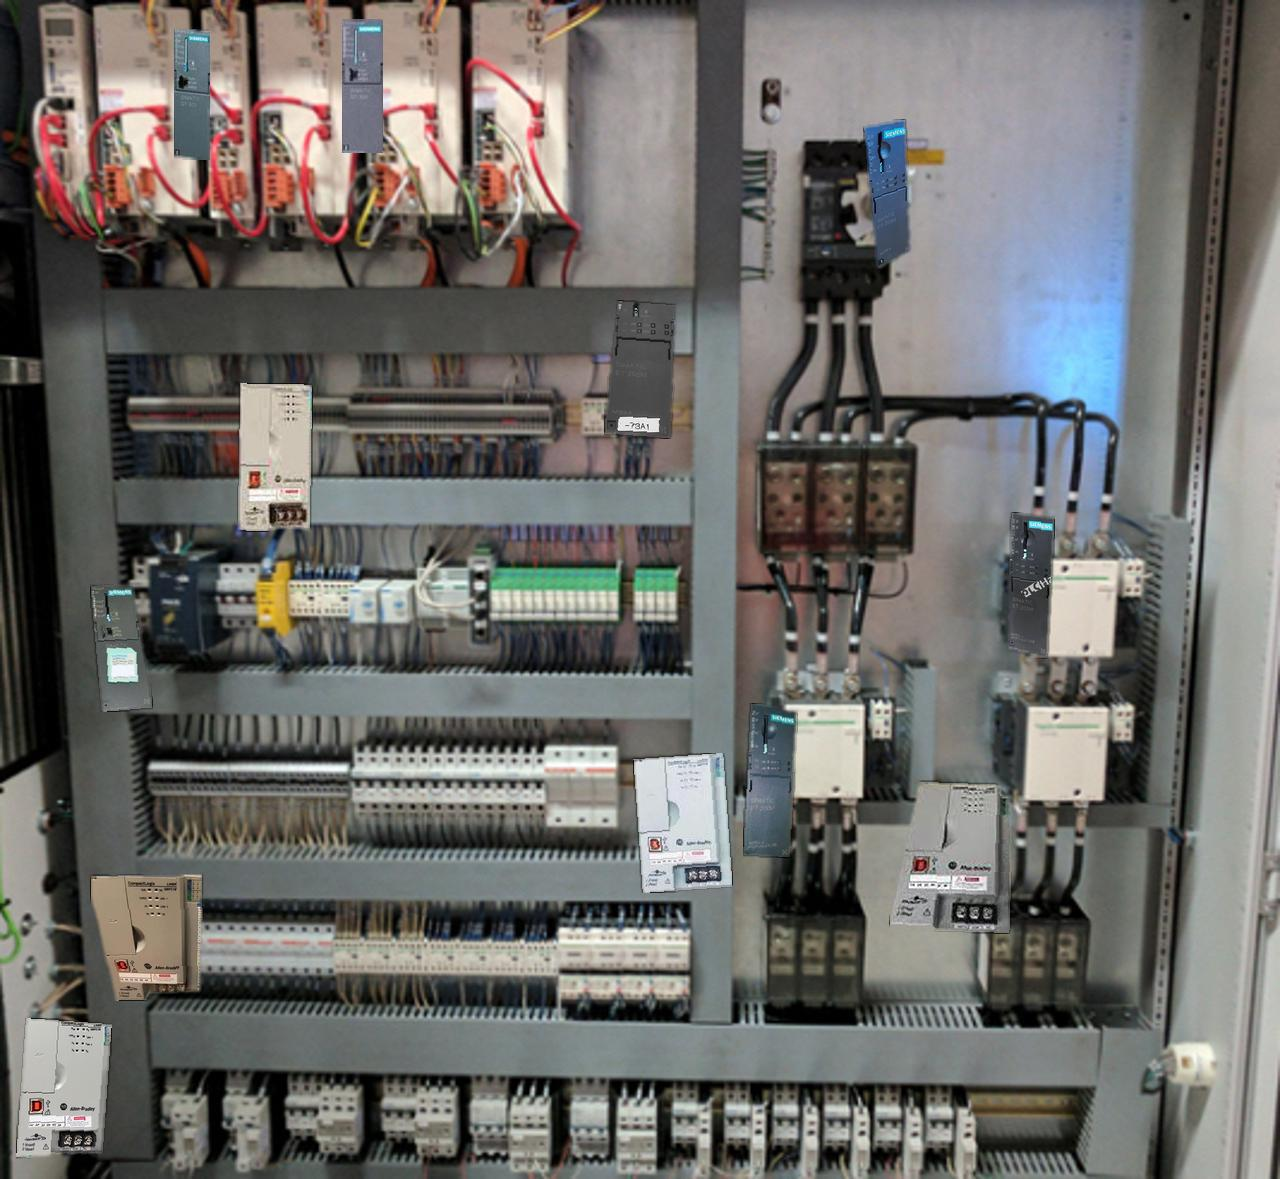AllenBradley: (890, 782, 1009, 932), (91, 874, 201, 1001), (633, 754, 731, 892), (16, 1018, 111, 1156), (239, 383, 311, 530)
Siemens: (91, 586, 151, 711), (342, 19, 382, 152), (174, 29, 209, 160)
